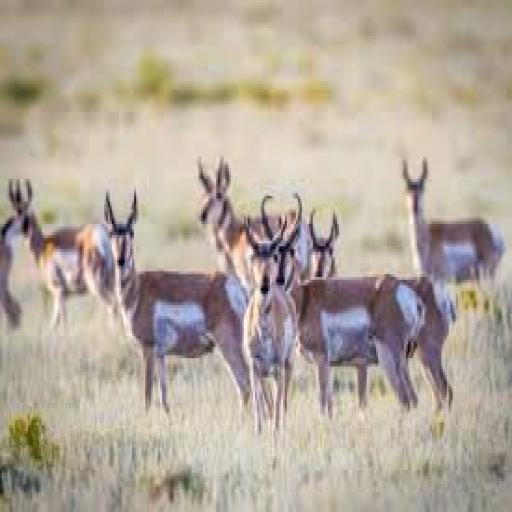antelope: (250, 184, 429, 414), (98, 190, 259, 420), (164, 155, 348, 328), (5, 166, 140, 346), (379, 144, 508, 311), (231, 205, 300, 438)
